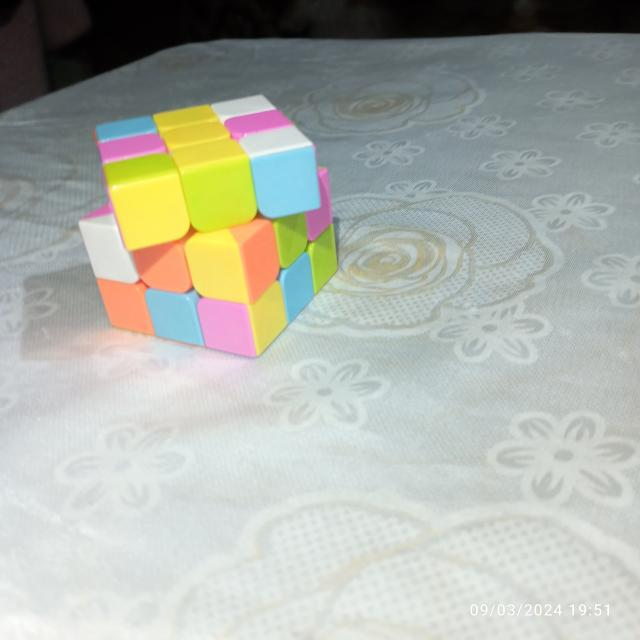Rub: (72, 90, 343, 362)
